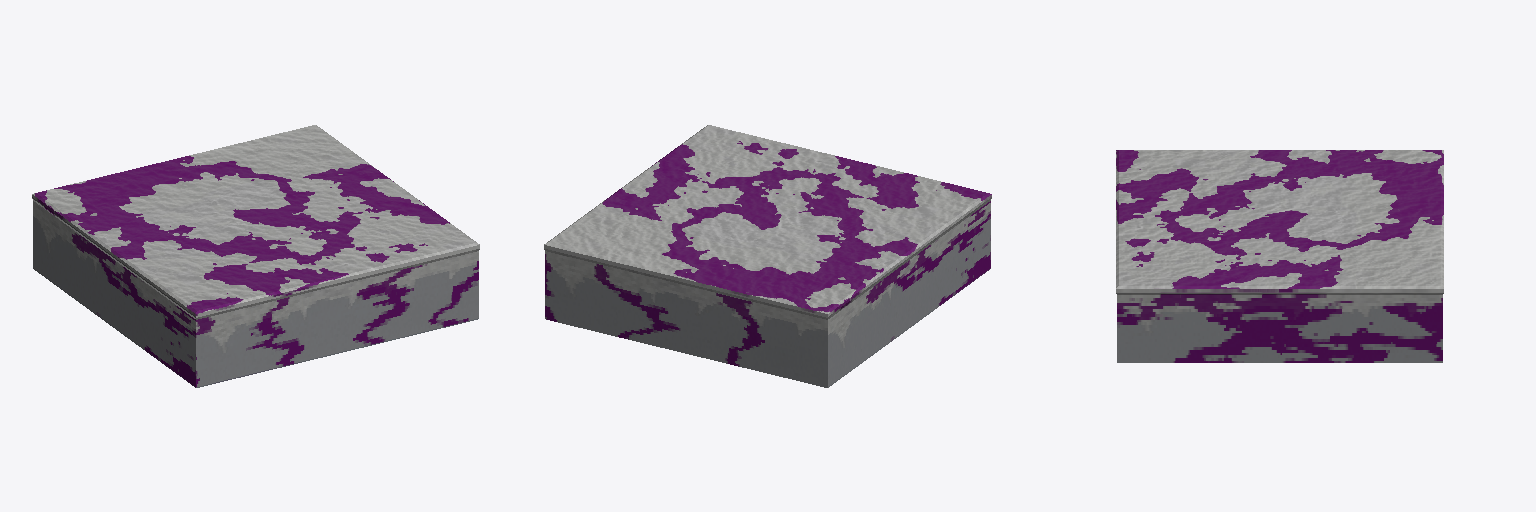
The picture shows the model from 3 angles: view 1: azimuth 30°, elevation 25°; view 2: azimuth 150°, elevation 25°; view 3: azimuth 270°, elevation 25°; orthographic projection.
Visible parts, largest first — view 1: Cube.001; view 2: Cube.001; view 3: Cube.001.
Boxes of the visible parts, x1=… form: Cube.001: x1=32, y1=125, x2=479, y2=387; Cube.001: x1=544, y1=125, x2=991, y2=387; Cube.001: x1=1116, y1=150, x2=1443, y2=362.
Bounding box in the file's own units: 2.01 × 0.5155 × 2.01.
3 materials, 1 textured.